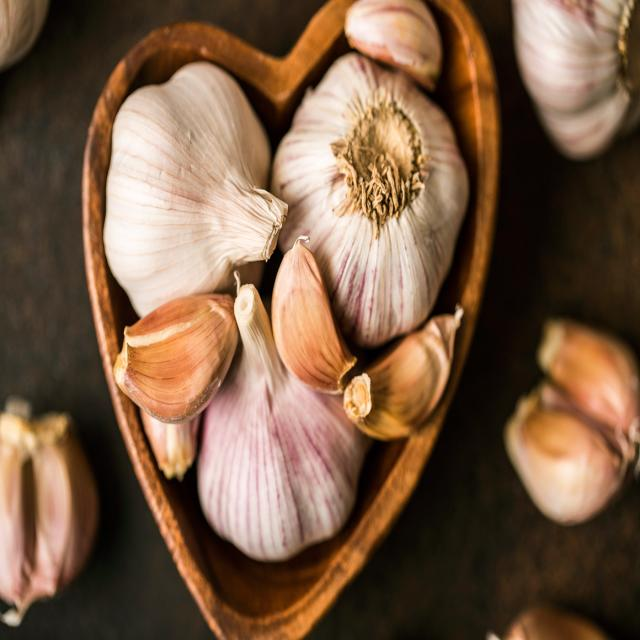garlic: (271, 53, 468, 346), (197, 284, 369, 560), (103, 61, 287, 316), (503, 319, 639, 524), (0, 397, 98, 625), (512, 0, 639, 159), (503, 389, 625, 524), (343, 304, 463, 439), (113, 293, 238, 422), (271, 236, 356, 393), (344, 0, 442, 90)
